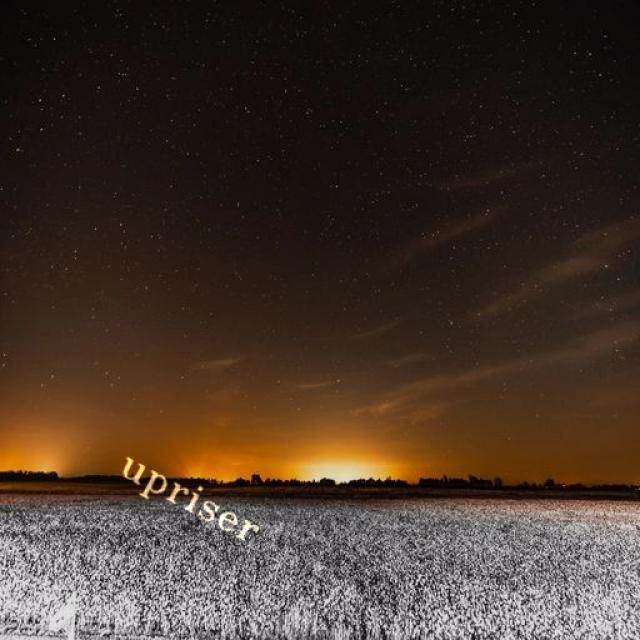watermark: (107, 444, 278, 550)
